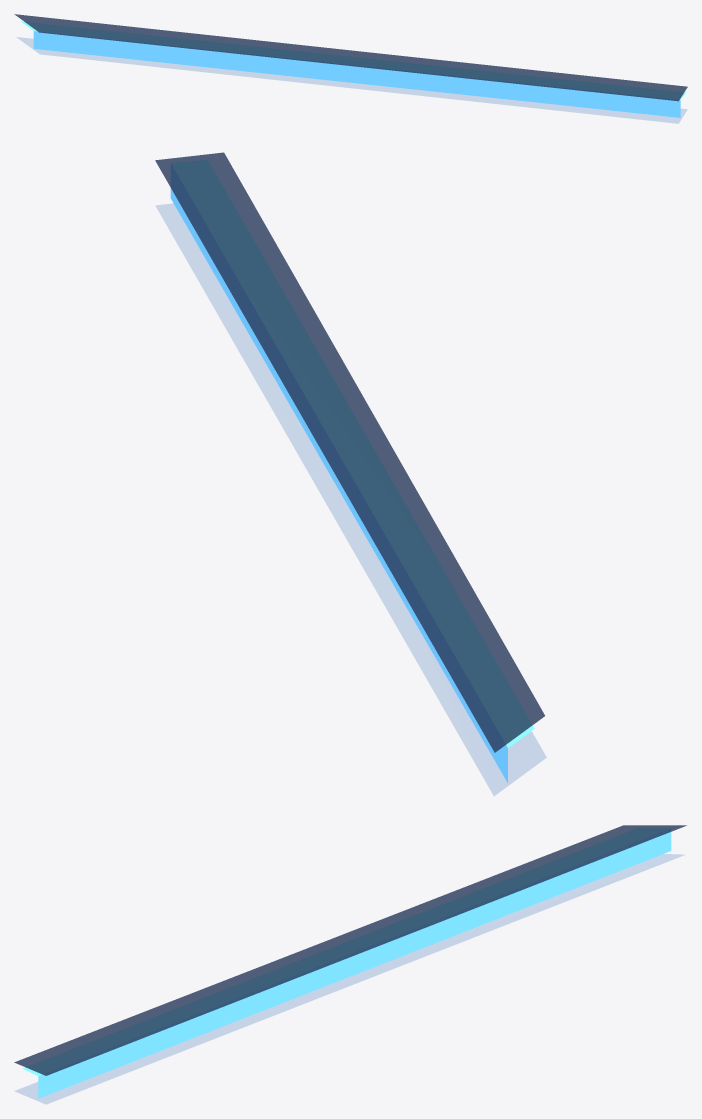
3 views of the same model, one above another, from view 1: azimuth 30°, elevation 25°; view 2: azimuth 150°, elevation 25°; view 3: azimuth 270°, elevation 25° (orthographic). The views are drawn at different scales.
Visible parts, largest first — view 1: 组001; view 2: 组001; view 3: 组001.
Boxes of the visible parts, <box> form: 组001: <box>14,14,687,123</box>; 组001: <box>155,152,546,795</box>; 组001: <box>14,825,686,1104</box>.
Bounding box in the file's own units: 204 × 14.5 × 221.
3 materials, 2 textured.
